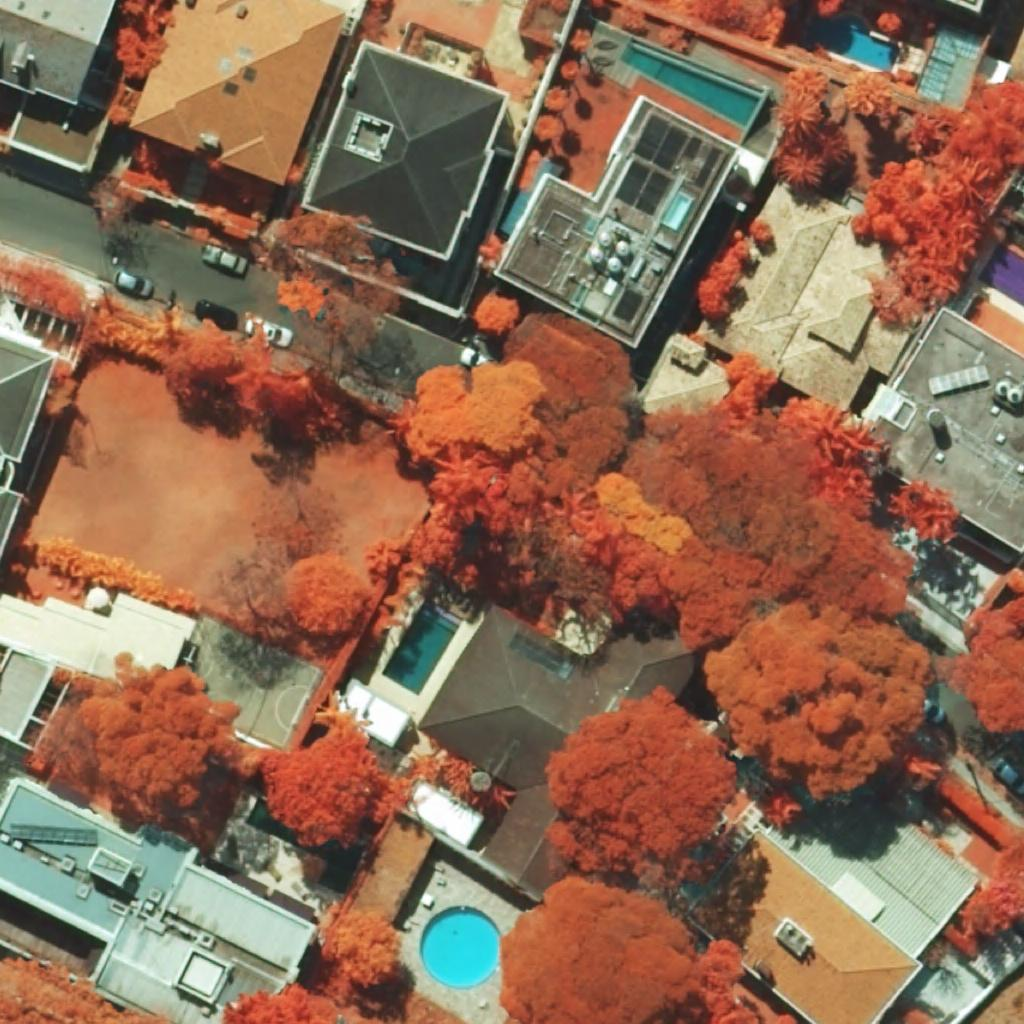pool: (619, 43, 761, 127), (382, 598, 464, 695), (420, 905, 502, 989), (807, 13, 900, 72), (977, 244, 1024, 306)
